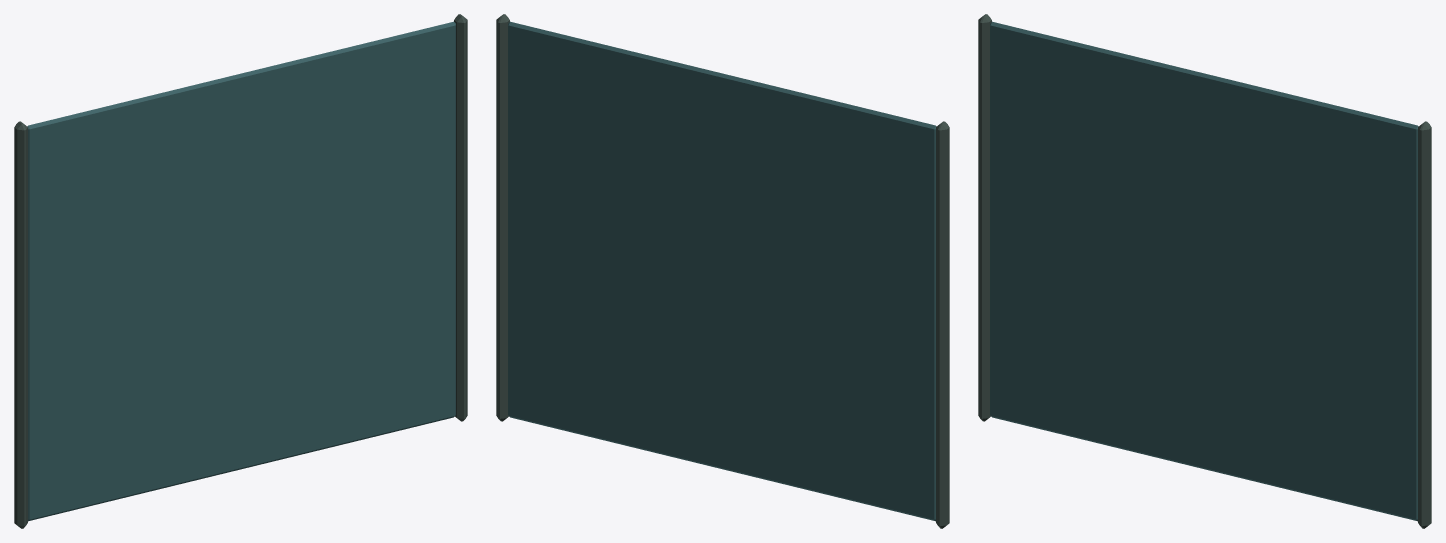
The model's file is glass_panel.glb.
The picture shows the model from 3 angles, left to right: view 1: azimuth 30°, elevation 25°; view 2: azimuth 150°, elevation 25°; view 3: azimuth 330°, elevation 25°; orthographic projection.
Visible parts, largest first — view 1: glass_panel.001; view 2: glass_panel.001; view 3: glass_panel.001.
Part boxes in pixels (x1,y1,x2,y2): glass_panel.001: [14, 14, 467, 528]; glass_panel.001: [496, 14, 949, 528]; glass_panel.001: [978, 14, 1431, 528].
Bounding box in the file's own units: 2.56 × 2.2 × 0.08.
